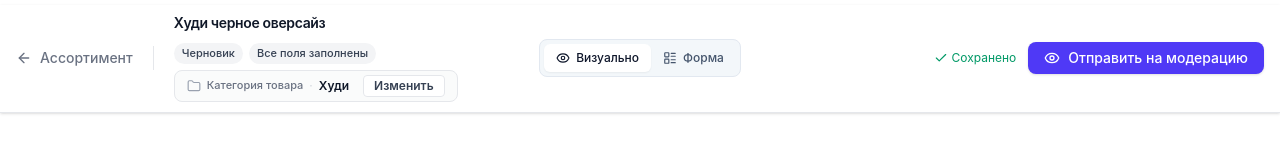
ProductStudio Submit to Moderation Eligibility › 1. Complete draft with no dirty changes: Save is disabled, Submit to Moderation is ENABLED
The image size is (1280, 160).
Expected: the element with test id "studio-save-status" reads "Сохранено", [952,50,1016,65]
Note: Clicking submit triggers the submission flow
Click the button with test id "studio-header-submit-moderation-btn": (1146, 58) [1028,42,1264,74]
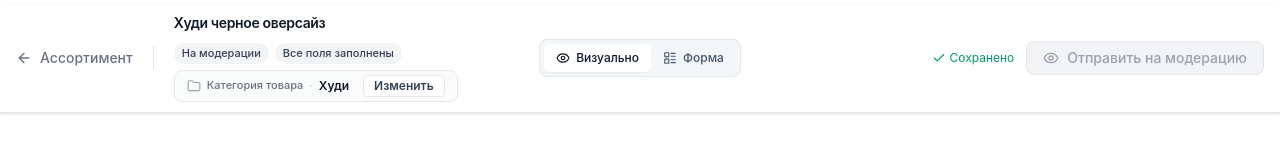
Expected: the text with test id "studio-entry-badge" reads "На модерации", [182,46,261,60]
Expected: the button with test id "studio-header-submit-moderation-btn" is disabled, [1026,41,1264,75]
